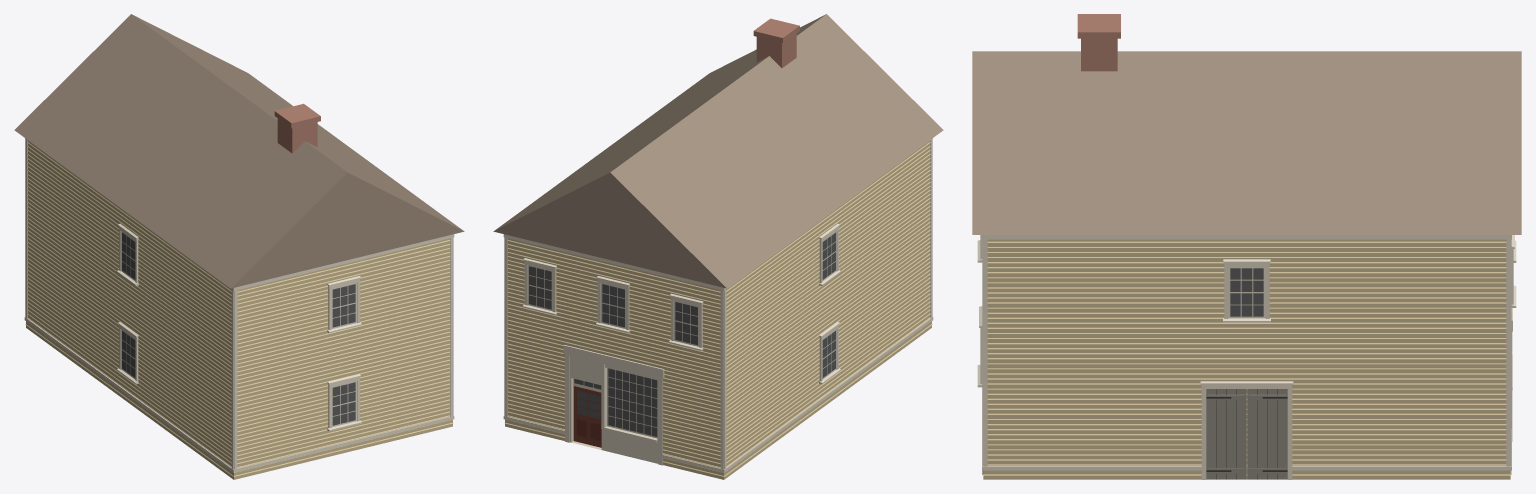
Rendered from recon_1835_gifford_c3_006__inferred_1835.glb.
3 views of the same model, side by side, from view 1: azimuth 30°, elevation 25°; view 2: azimuth 150°, elevation 25°; view 3: azimuth 270°, elevation 25° (orthographic). The views are drawn at different scales.
Visible parts, largest first — view 1: recon_1835_gifford_c3_006__inferred_1835; view 2: recon_1835_gifford_c3_006__inferred_1835; view 3: recon_1835_gifford_c3_006__inferred_1835.
Boxes of the visible parts, box(x1,y1,x2,y2) form: recon_1835_gifford_c3_006__inferred_1835: box(14, 14, 464, 479); recon_1835_gifford_c3_006__inferred_1835: box(493, 14, 943, 479); recon_1835_gifford_c3_006__inferred_1835: box(972, 14, 1521, 479).
Bounding box in the file's own units: 7.8 × 9.76 × 12.5.
